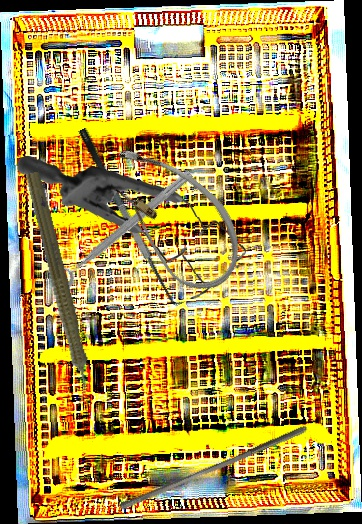Cannula: (80, 131, 263, 305)
Fixation Ring: (43, 158, 197, 295)
Handpiece: (15, 170, 102, 407)
Pusher: (117, 417, 310, 518)
Spatula Surgical: (76, 119, 190, 313)
Speculum: (15, 141, 252, 311)
